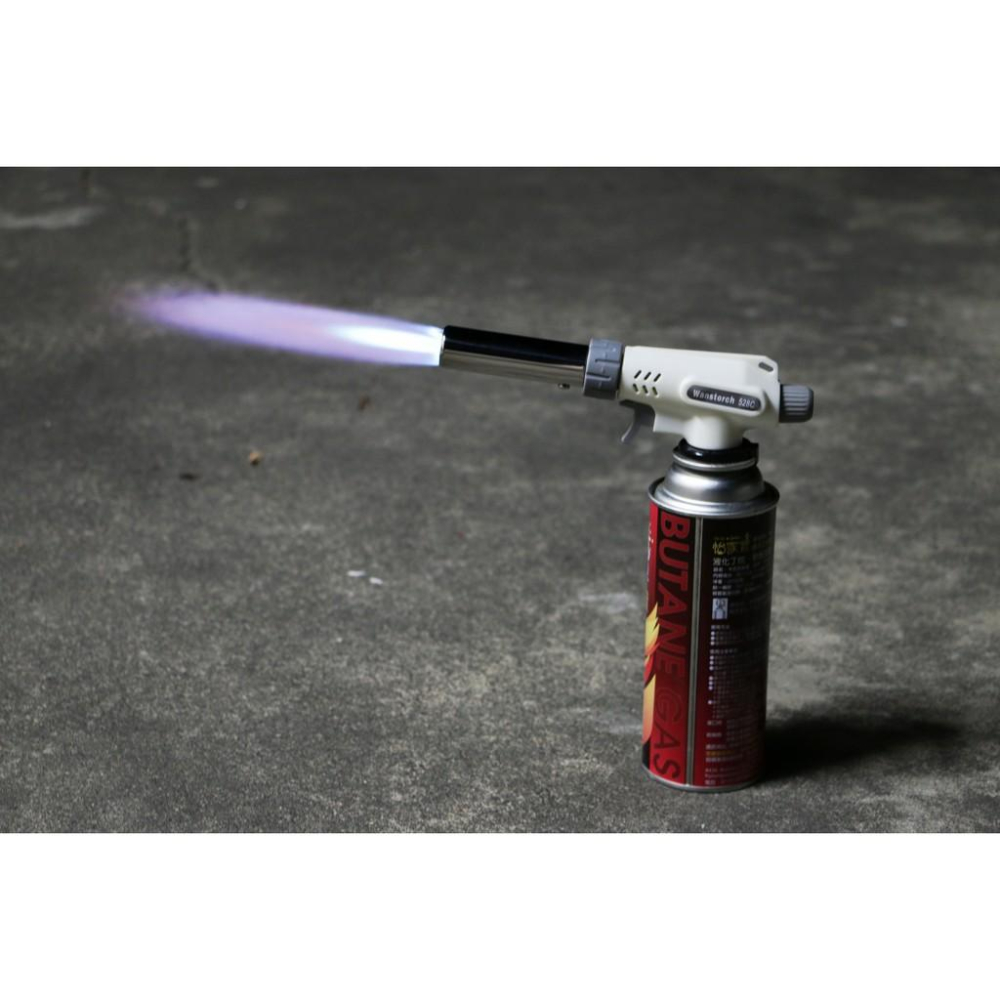gastorch: (431, 320, 821, 803)
